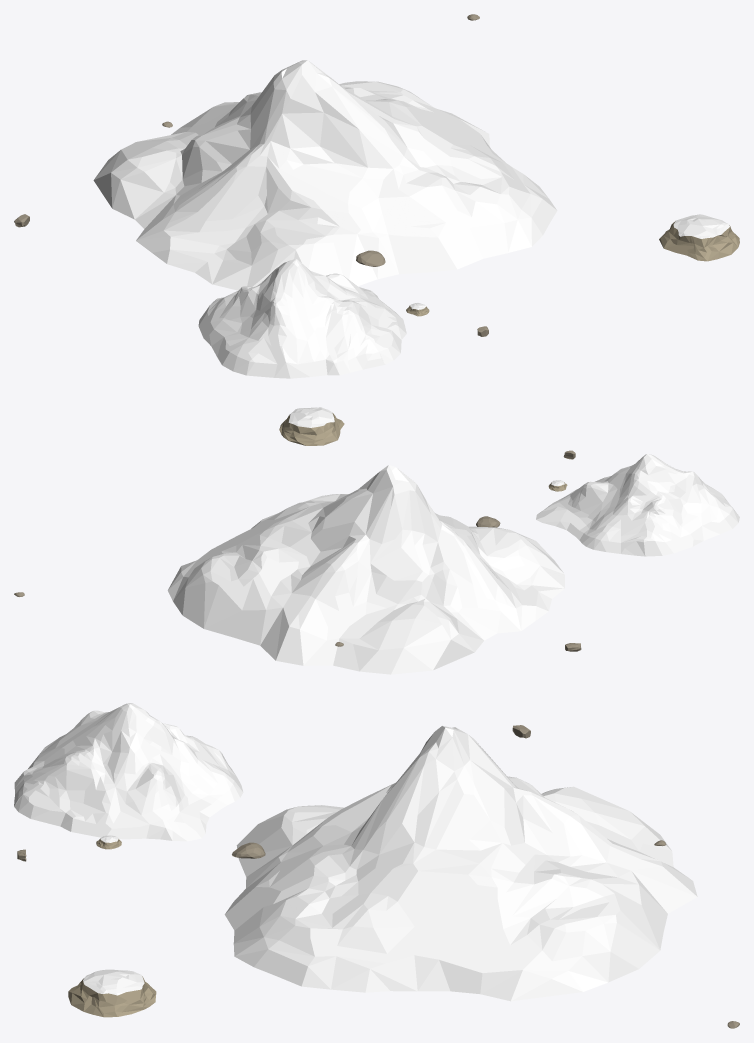
Rendered from 257_Snow_Steppable.fbx.
3 views of the same model, one above another, from view 1: azimuth 30°, elevation 25°; view 2: azimuth 150°, elevation 25°; view 3: azimuth 270°, elevation 25° (orthographic). The views are drawn at different scales.
Parts seen in each view (by area): view 1: test, PolygonNature_01; view 2: test, PolygonNature_01; view 3: test, PolygonNature_01.
Boxes of the visible parts, box(x1,y1,x2,y2) form: test: box(93, 60, 739, 378); PolygonNature_01: box(14, 14, 488, 336); test: box(167, 407, 739, 674); PolygonNature_01: box(14, 450, 581, 651); test: box(14, 703, 697, 1017); PolygonNature_01: box(17, 725, 739, 1028).
Bounding box in the file's own units: 1817 × 455 × 1861.
2 materials, 2 textured.
